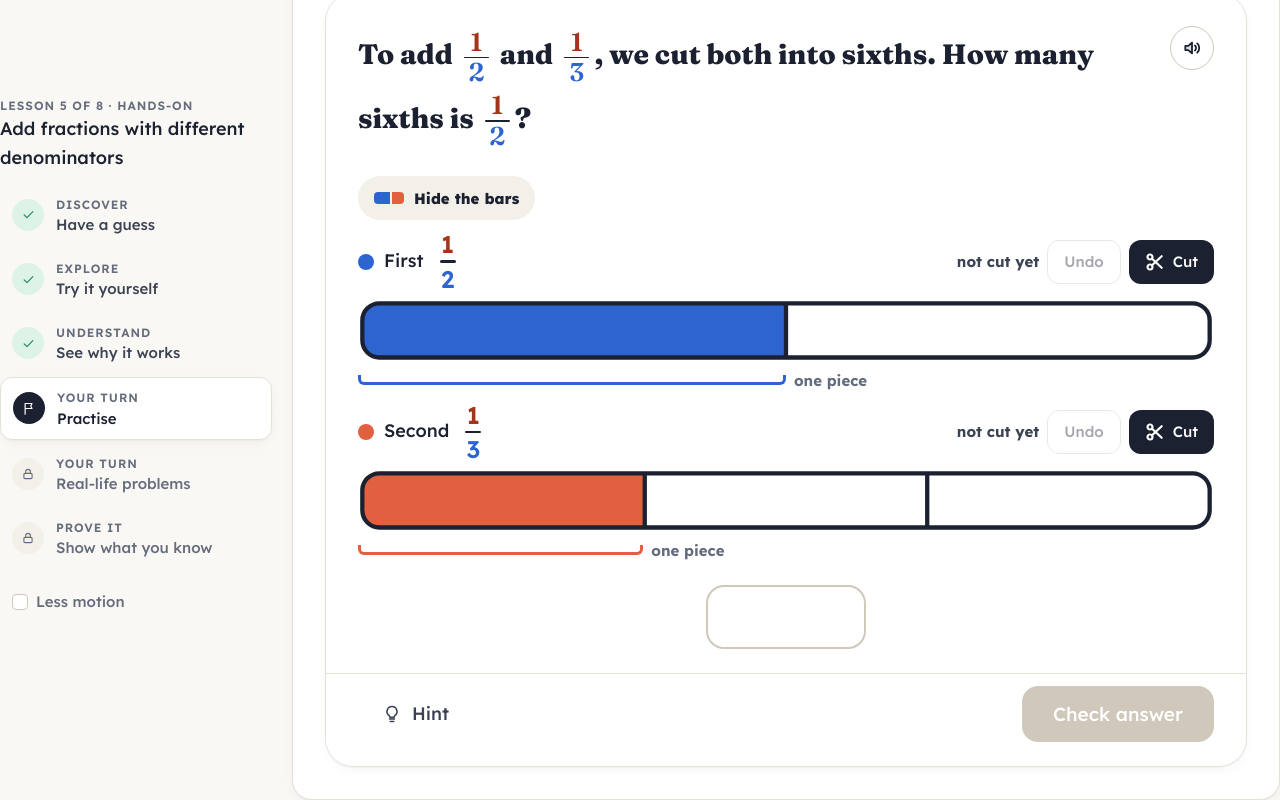
it: lesson canvas: Discover, Explore, Understand, Practise, Apply, Prove it (D-060) › practises with the island's own questions and marking, with the bars open at the first level, and records each answer
(page scrolled)
expect the element named "Cut the first bar" is shown: met, box [957, 240, 1214, 284]
Type "3" into the field at (786, 617), box [706, 585, 866, 649]
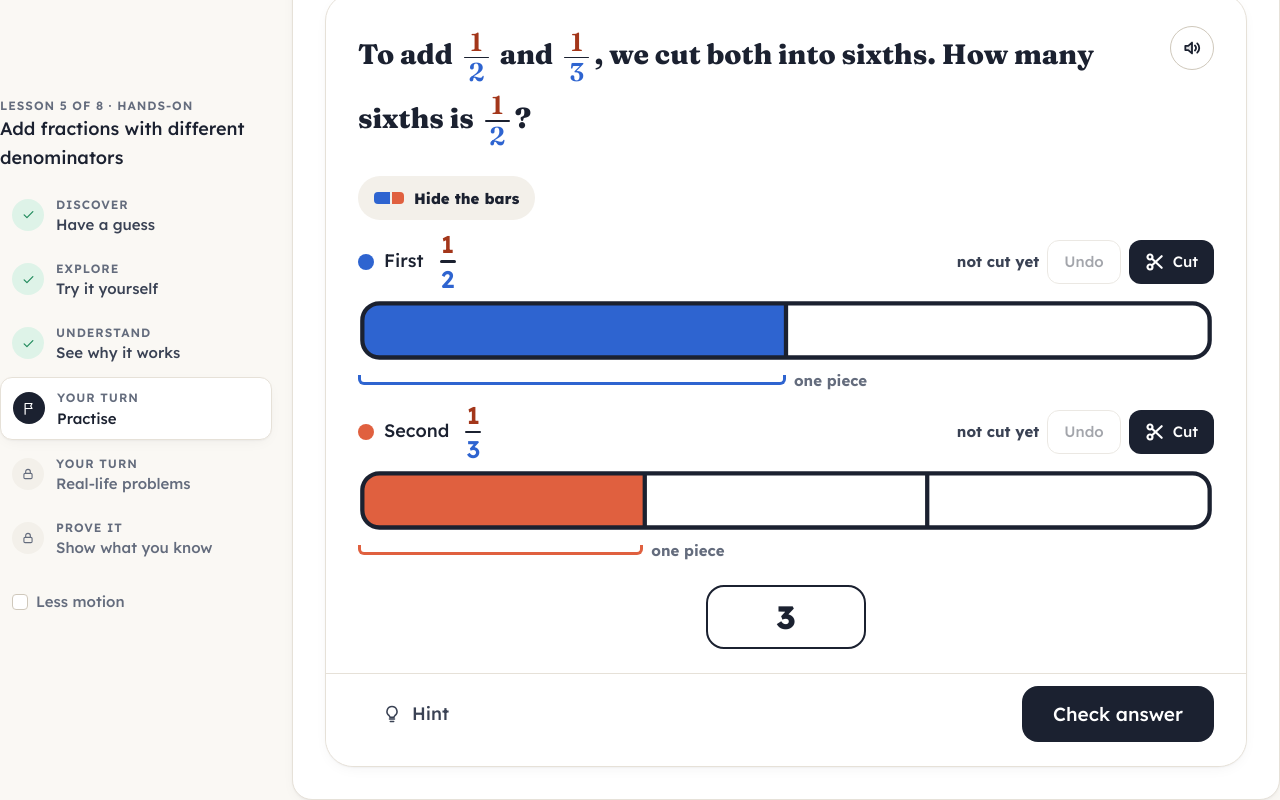
Click the button "Check answer" at (1118, 714), box [1022, 686, 1214, 742]
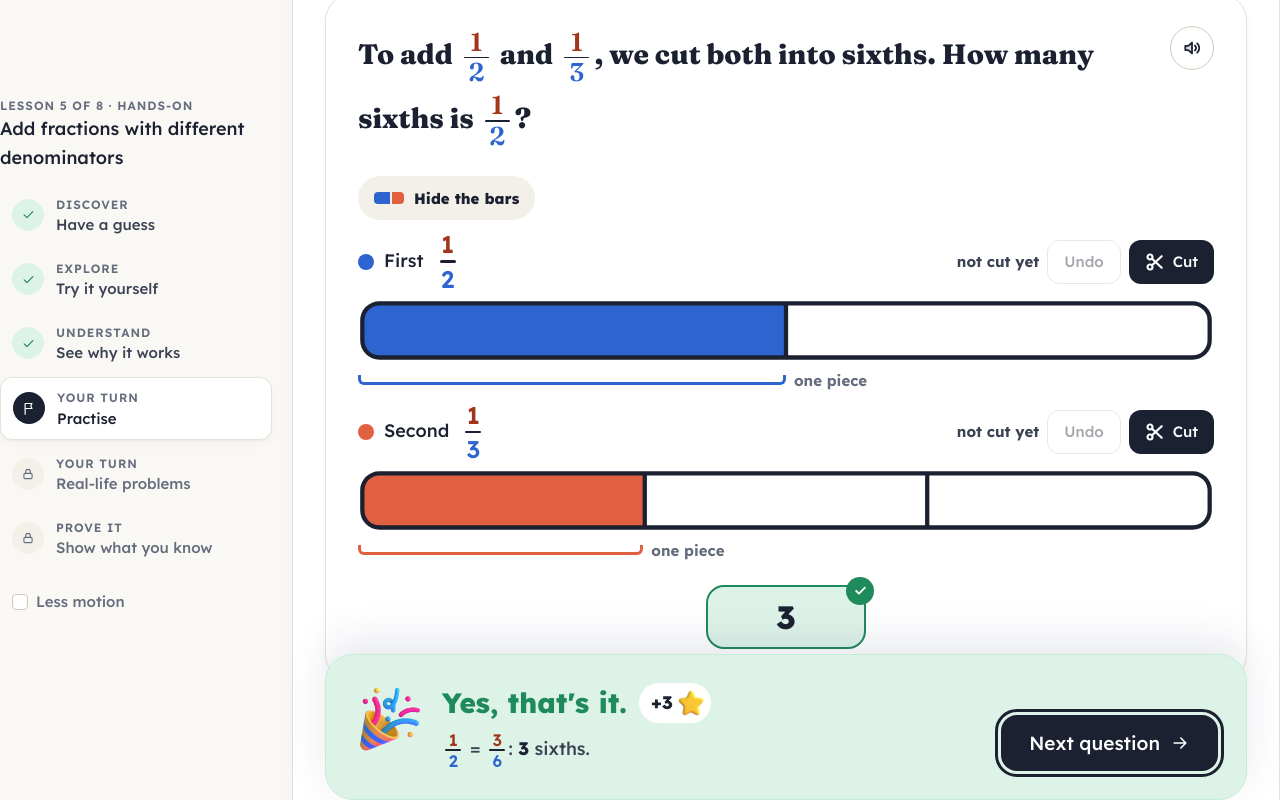
Click the button "Next question" at (1110, 743), box [1001, 715, 1218, 771]
(page scrolled)
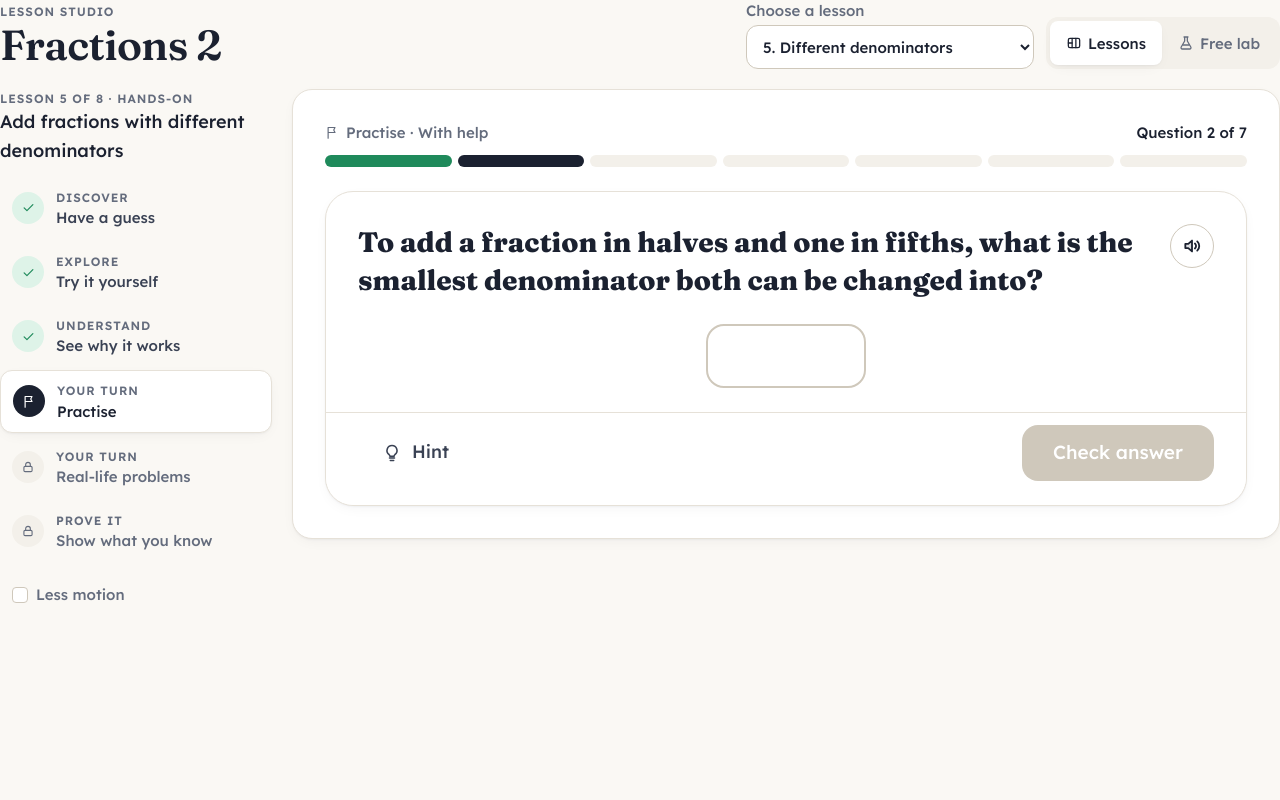
expect the text "Question 2 of 7" is shown: met, box [1136, 122, 1247, 143]
